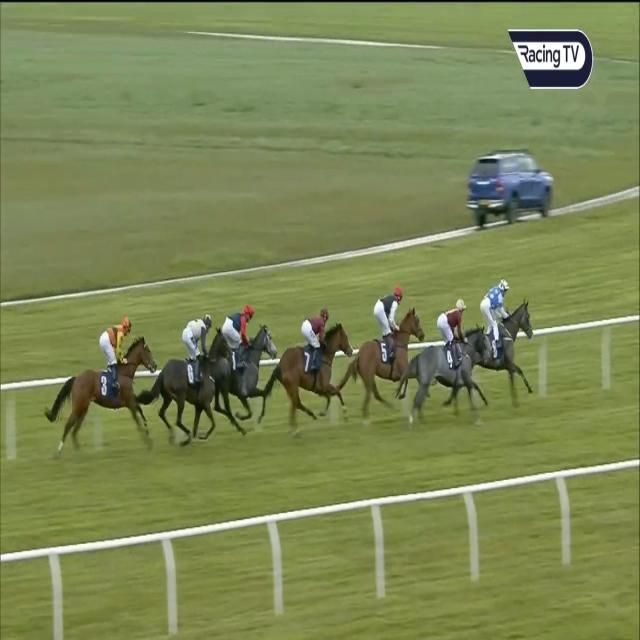horses-racing: (51, 314, 154, 448), (275, 300, 356, 444), (407, 298, 487, 434), (157, 306, 231, 446), (467, 273, 543, 402), (352, 280, 421, 417), (217, 296, 278, 435)
